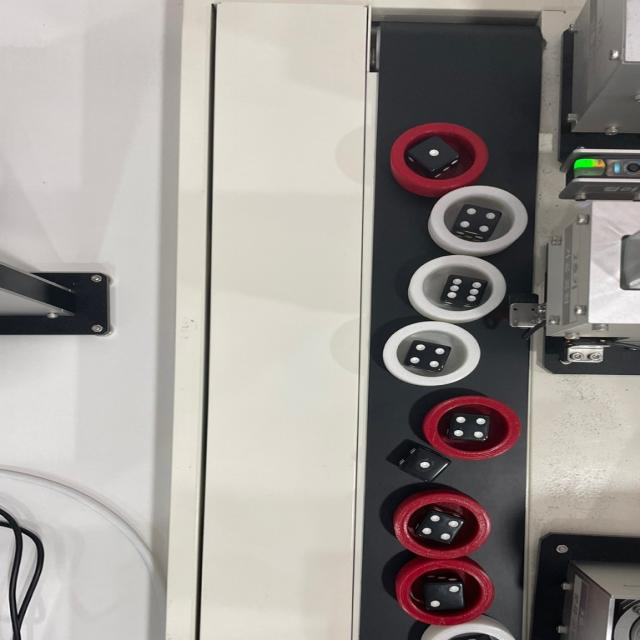DICE1: (401, 449, 448, 478), (412, 140, 453, 167)
DICE2: (424, 583, 464, 609)
DICE4: (455, 207, 497, 234), (452, 412, 489, 442), (421, 513, 463, 539), (410, 343, 446, 369)
DICE6: (442, 274, 486, 306)
RedChip: (390, 122, 488, 190), (420, 394, 519, 458), (394, 494, 491, 559), (398, 560, 493, 624)
WhiteChip: (407, 254, 507, 322), (429, 186, 528, 253), (384, 322, 481, 384), (421, 623, 519, 640)
